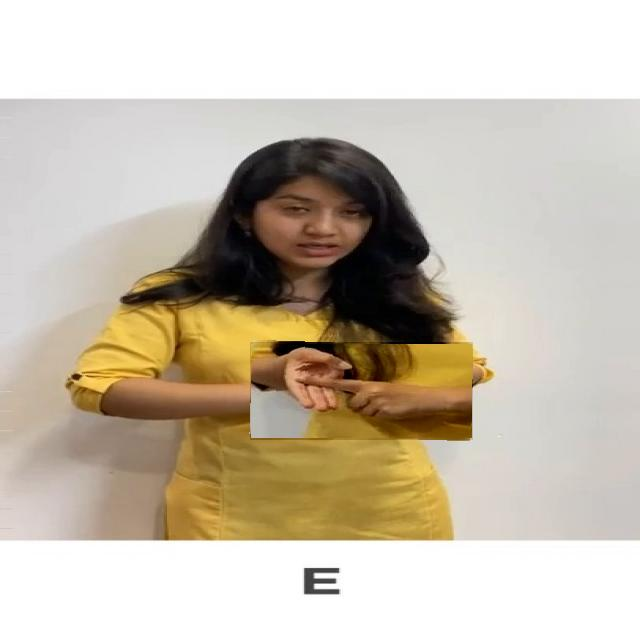E: (250, 342, 473, 440)
